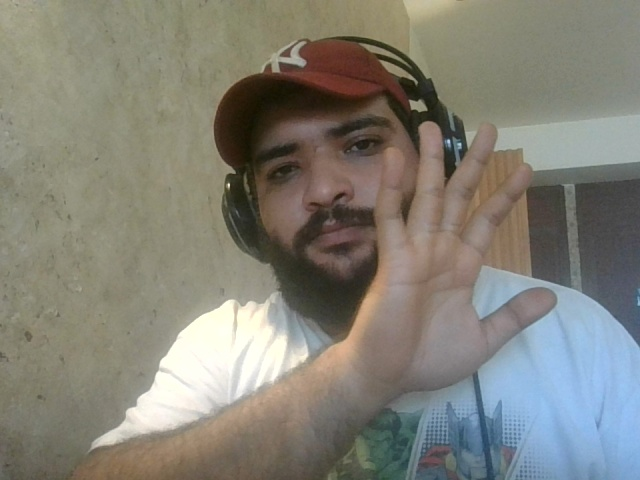hello: (370, 116, 563, 420)
